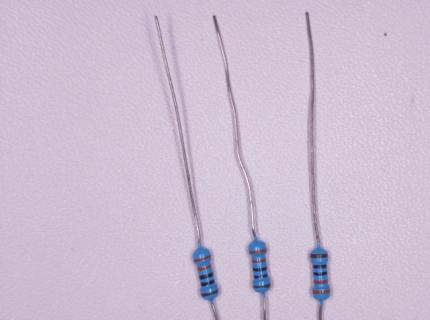Black band: (199, 272, 213, 280), (201, 279, 215, 286), (254, 273, 268, 279), (253, 266, 267, 271), (314, 271, 328, 276), (313, 264, 327, 268)
Brown band: (201, 289, 219, 297), (310, 253, 328, 258), (253, 284, 271, 288)
Orange band: (193, 254, 212, 263), (249, 248, 267, 254), (197, 264, 211, 271), (312, 289, 330, 294), (313, 279, 328, 284), (252, 258, 266, 263)
